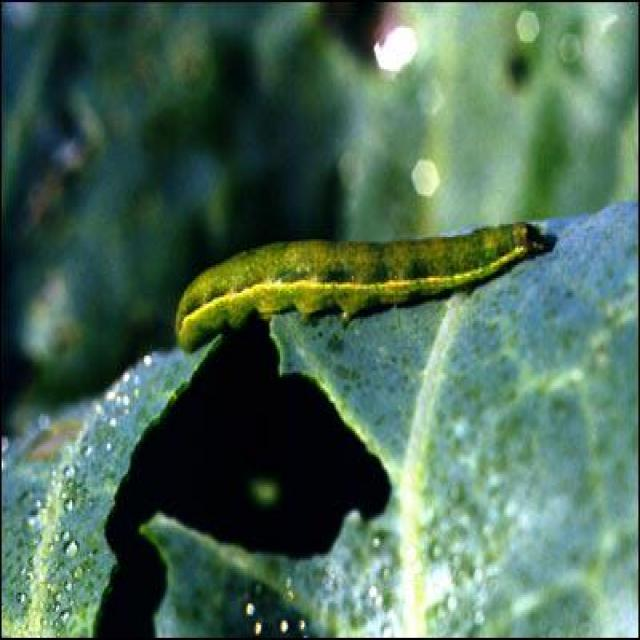BeetArmyWorm-Larva-: (169, 217, 536, 351)
